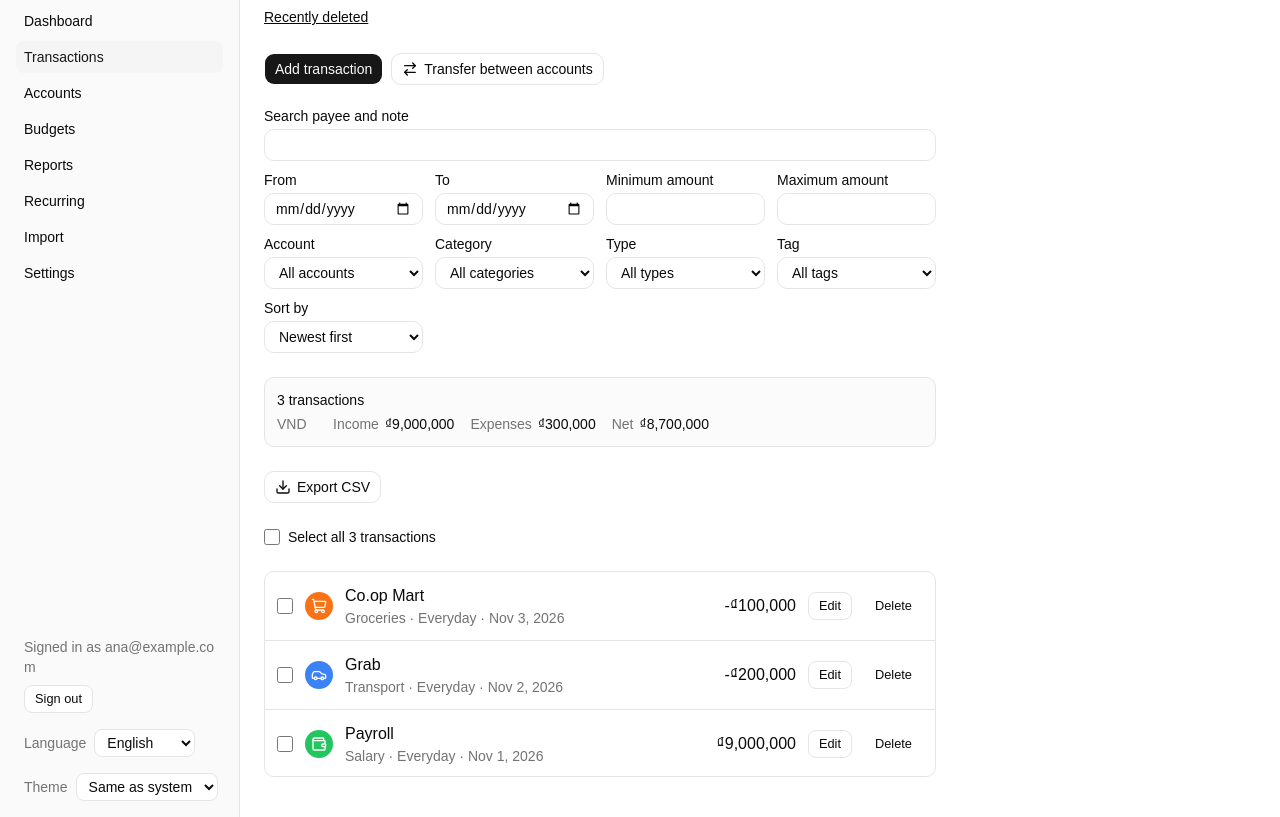
Test case: bulk actions › give the selected transactions one category, and the list shows it
Click the checkbox named "Select Co.op Mart" at (285, 606), box [277,598,293,614]
(page scrolled)
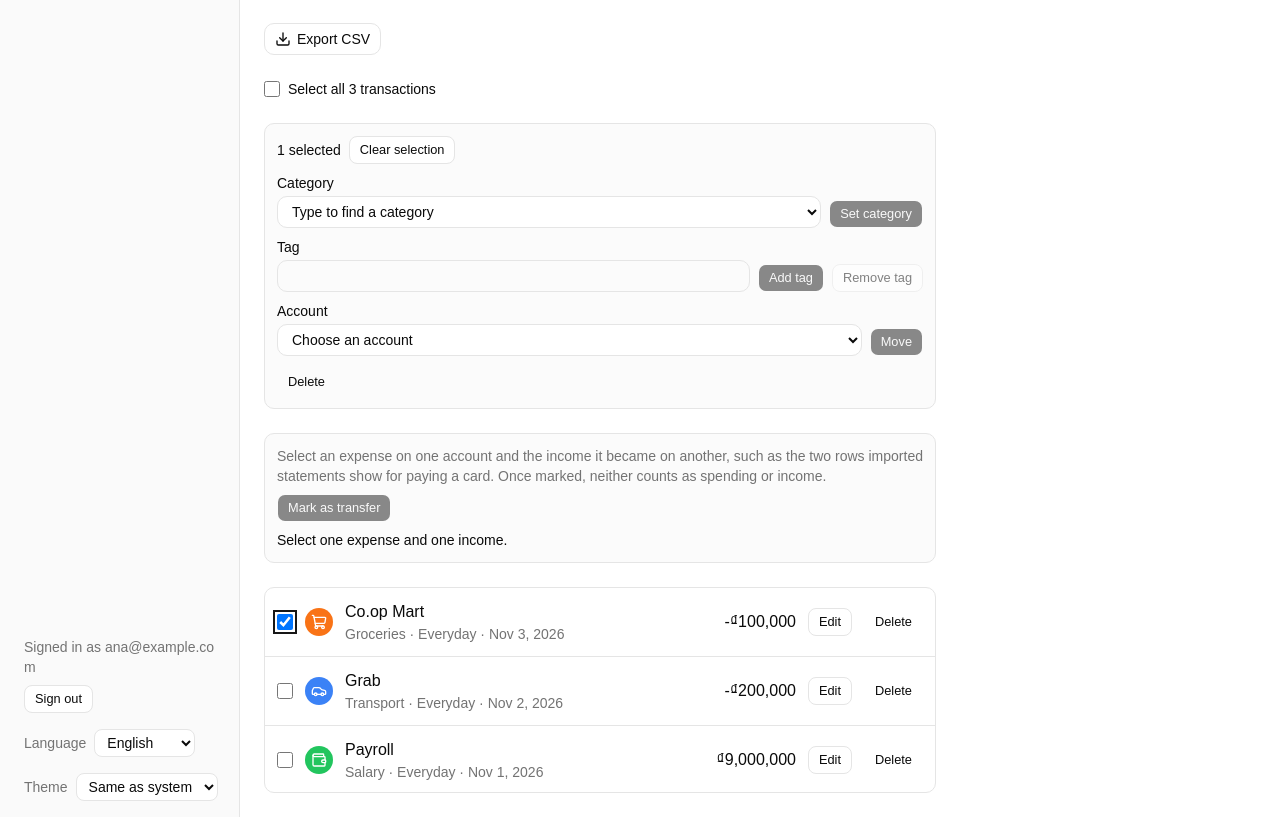
Click the checkbox named "Select Grab" at (285, 691), box [277,683,293,699]
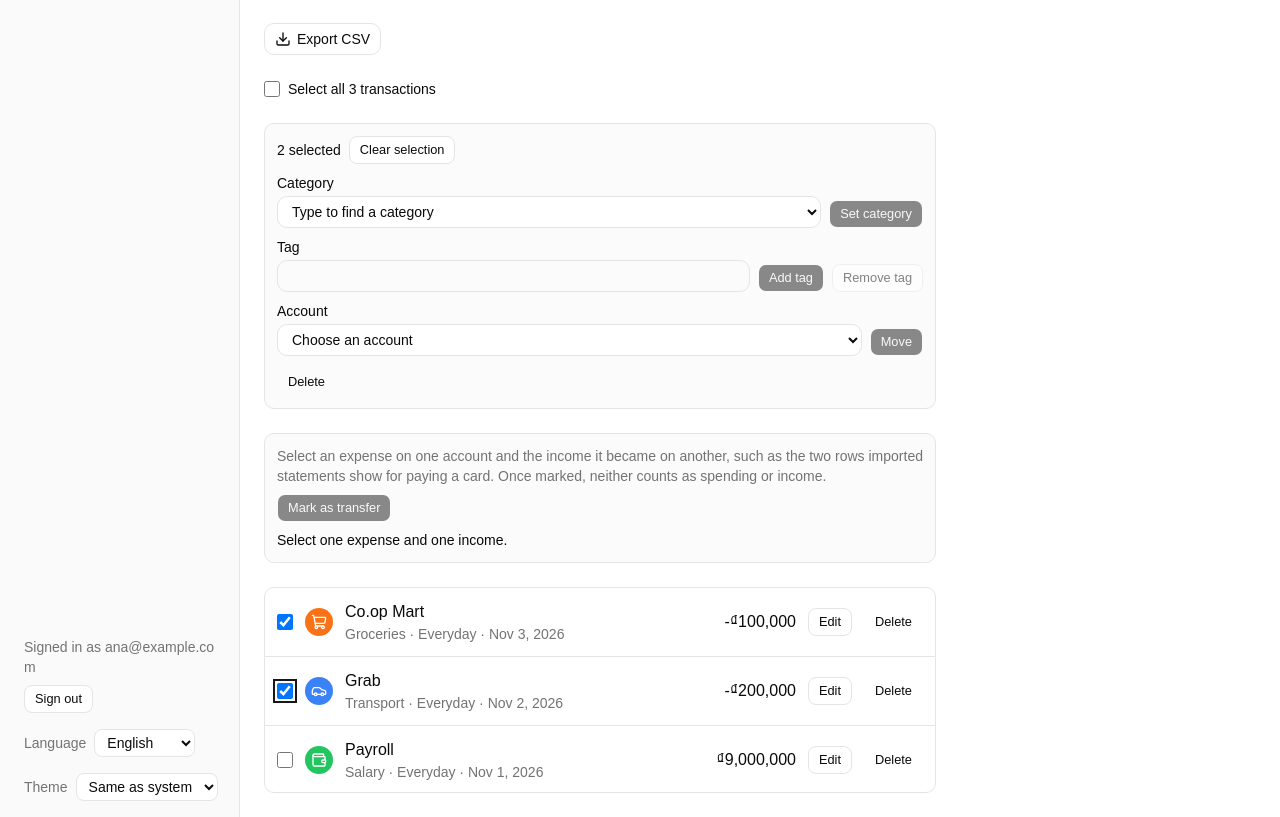
Result: the text "2 selected" is shown at [277,140,341,160]
Select "Food & drink › Eating out" in the dropdown labelled "Category" at (549, 212), box [277,196,821,228]
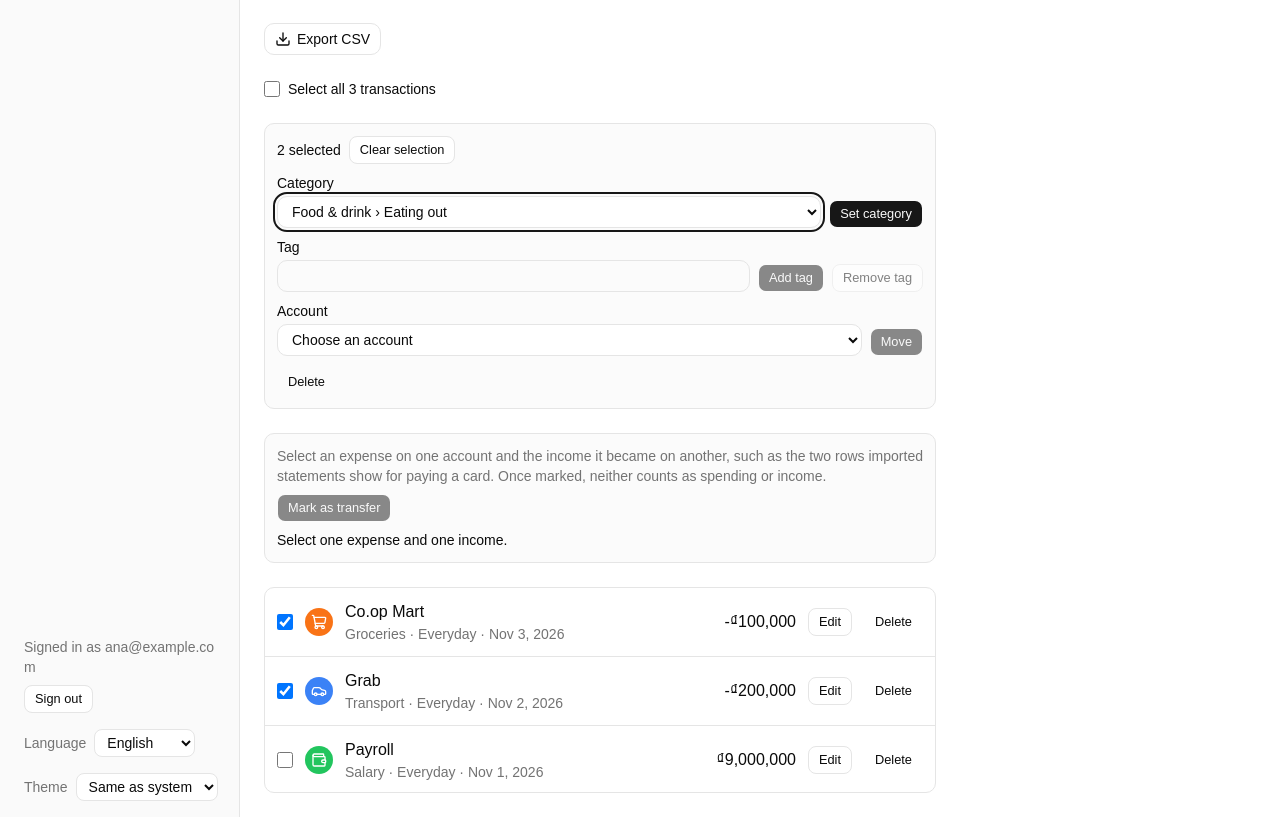
Click the button "Set category" at (876, 214), box [829,200,923,228]
(page scrolled)
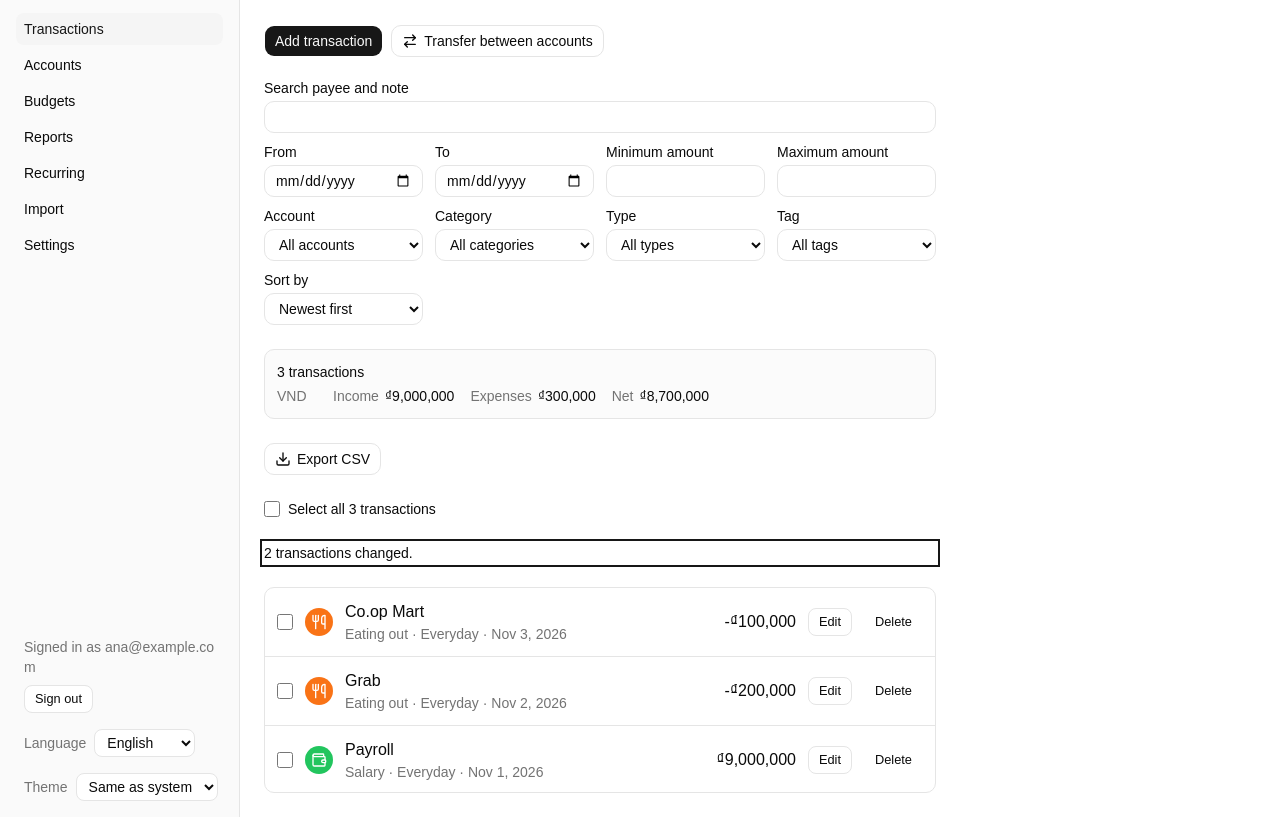
Result: the checkbox named "Select Co.op Mart" is not checked at [277,614,293,630]
Result: the message reads "2 transactions changed." at [264,545,413,561]
